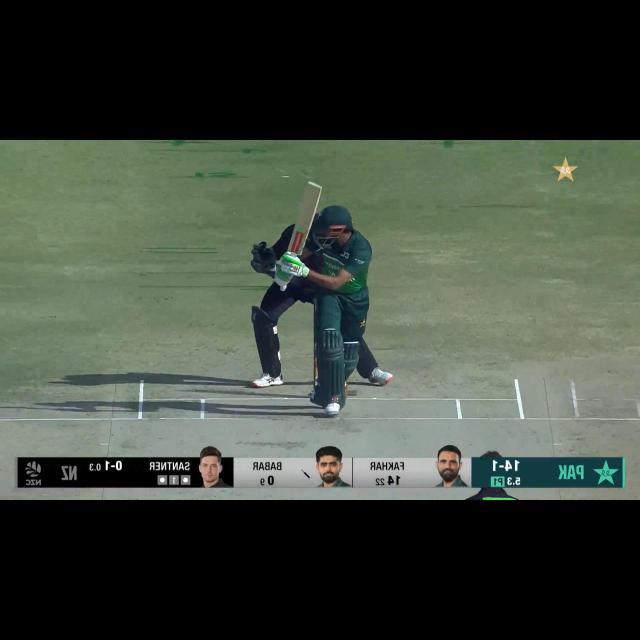bat: (287, 174, 326, 258)
toe: (304, 178, 324, 198)
